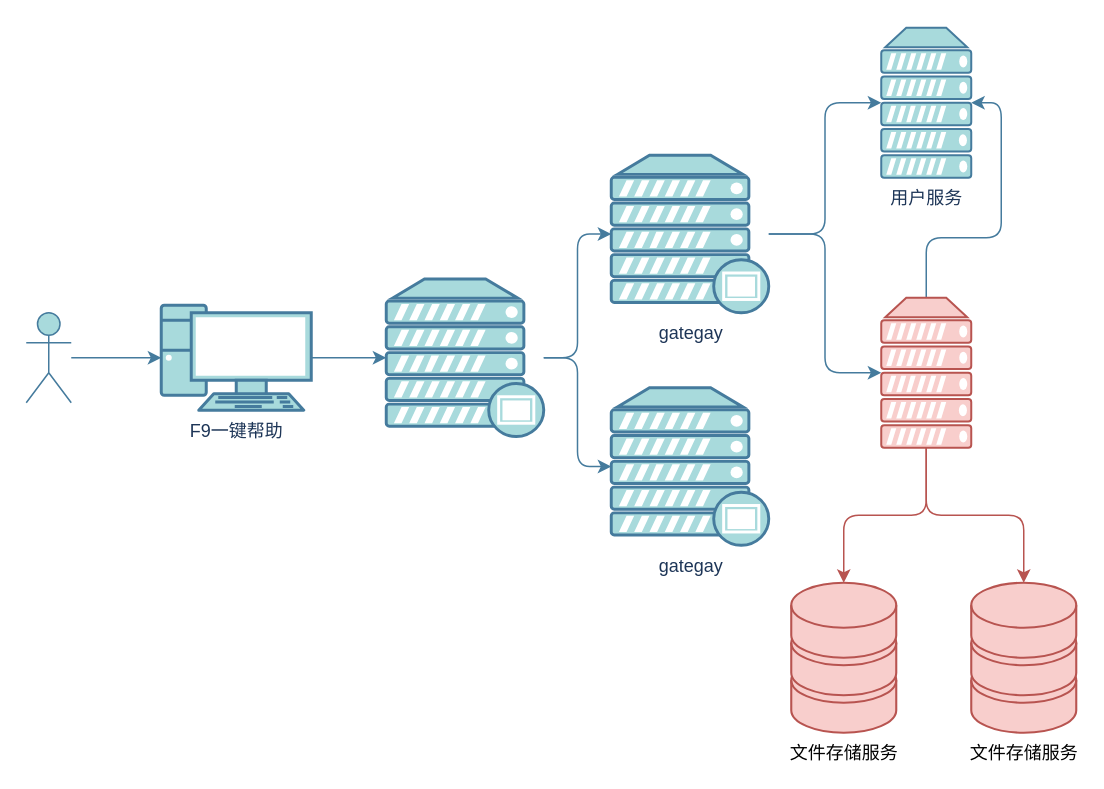
Image size: 1104x789. Some labels were removed from this diagram. The centre of each missing label's shape, as x and y in pixels:
nginx: point (464, 357)
用户: point (48, 357)
网盘服务: point (925, 372)
